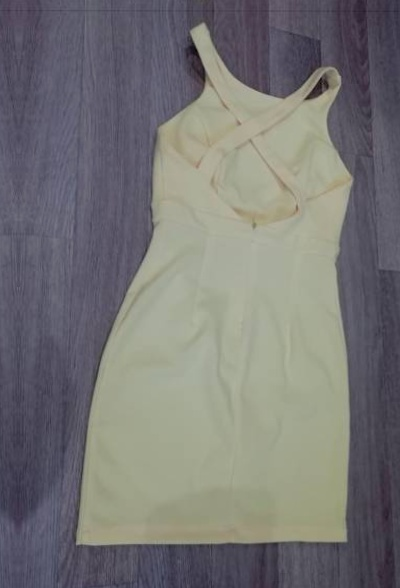Dress: (69, 31, 373, 574)
